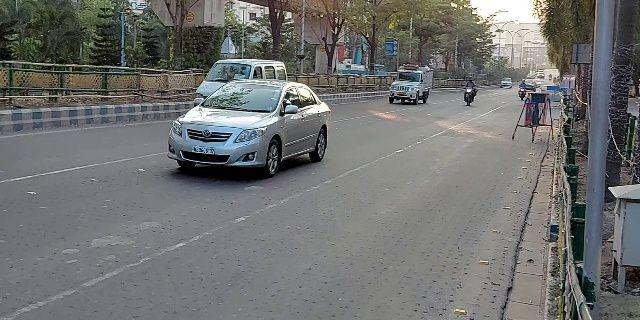Car: (163, 77, 330, 179)
Minitruck: (386, 64, 433, 107)
Motorbike: (460, 72, 480, 110), (515, 75, 528, 102)
Van: (195, 55, 288, 106)
